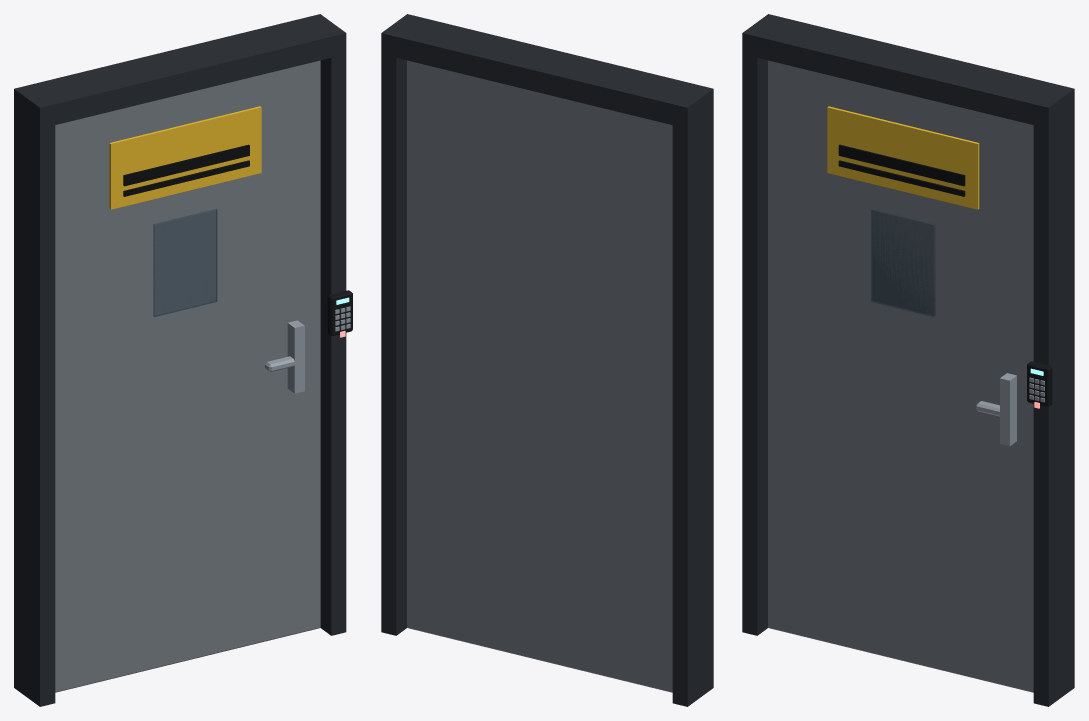
The model's file is 37_Server_Room_Door_Keypad.fbx.
The picture shows the model from 3 angles, left to right: view 1: azimuth 30°, elevation 25°; view 2: azimuth 150°, elevation 25°; view 3: azimuth 330°, elevation 25°; orthographic projection.
Parts seen in each view (by area): view 1: 37_Server_Room_Door_Keypad; view 2: 37_Server_Room_Door_Keypad; view 3: 37_Server_Room_Door_Keypad.
Boxes of the visible parts, left/top/right/bottom form: 37_Server_Room_Door_Keypad: left=14, top=14, right=352, bottom=706; 37_Server_Room_Door_Keypad: left=381, top=14, right=713, bottom=706; 37_Server_Room_Door_Keypad: left=742, top=14, right=1074, bottom=706.
Bounding box in the file's own units: 1.23 × 2.28 × 0.2095.
